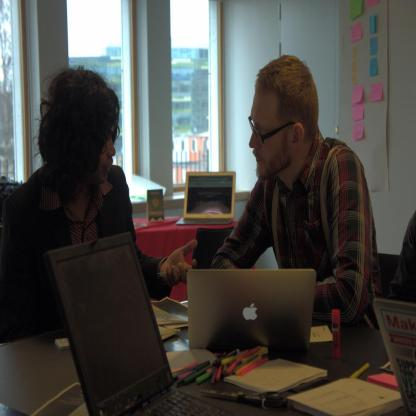board: (44, 233, 294, 416), (182, 268, 327, 367), (175, 172, 237, 226)
